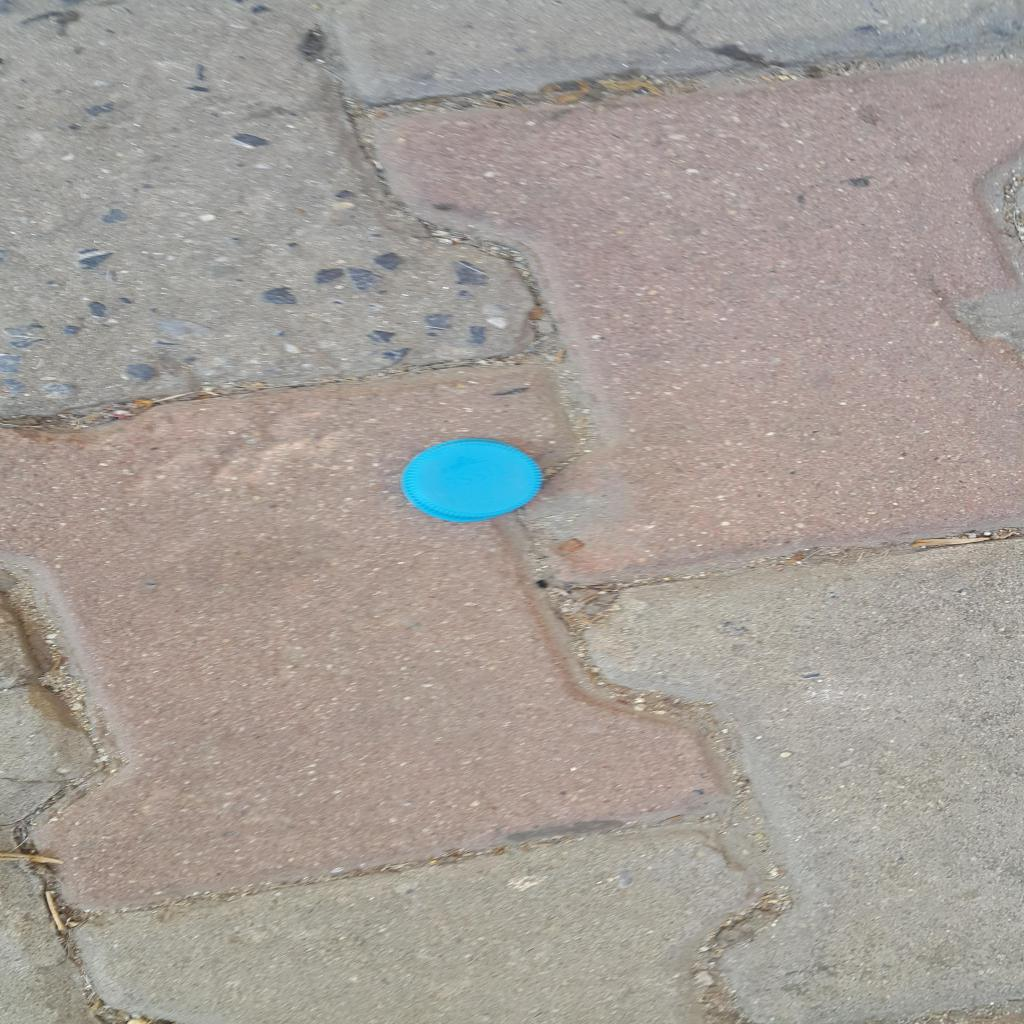Plastic bottle cap: (402, 438, 543, 522)
